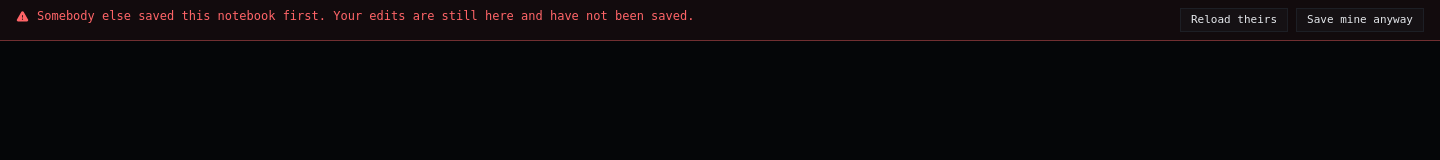
SaveConflictBanner › shows why a way out failed instead of swallowing it
Click the button "Reload theirs": (1234, 20) [1180,8,1288,32]
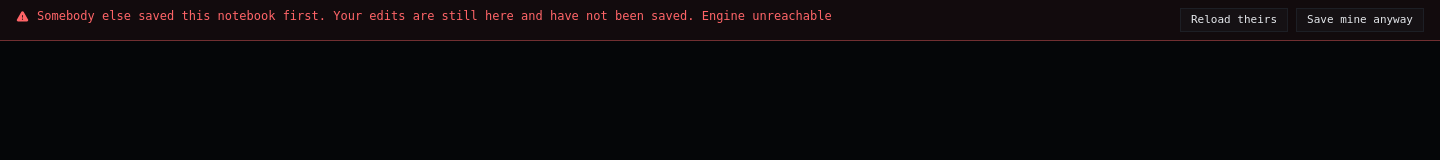
Now the message shows "Engine unreachable", box [694,9,832,23]
